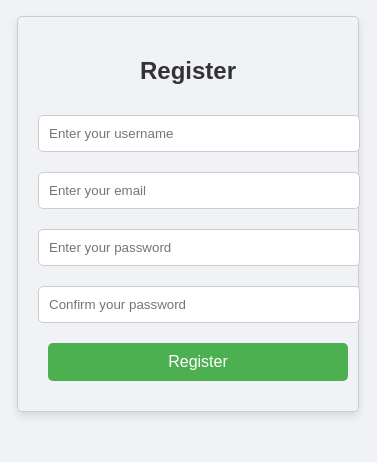
shows error message when passwords do not match
Type "testuser" into the field with placeholder "Enter your username" at (199, 133), box 38,115 -> 360,152
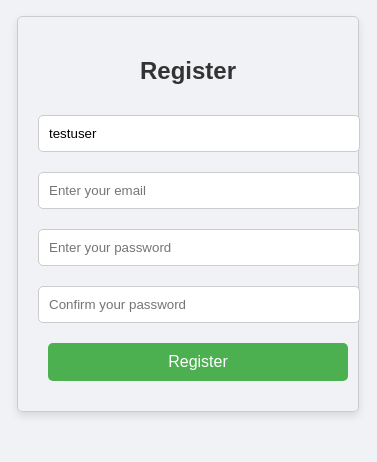
Type "test@example.com" into the field with placeholder "Enter your email" at (199, 190), box 38,172 -> 360,209
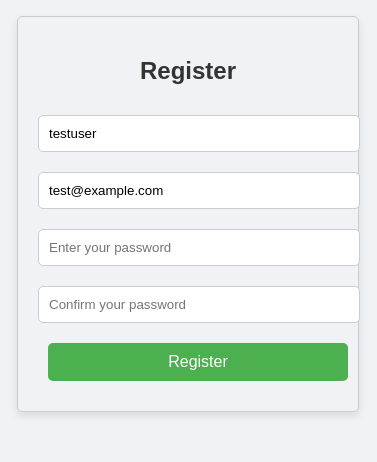
Type "password123" into the password field with placeholder "Enter your password" at (199, 247), box 38,229 -> 360,266
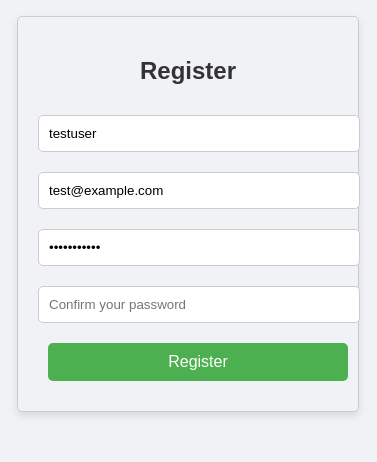
Type "password321" into the password field with placeholder "Confirm your password" at (199, 304), box 38,286 -> 360,323
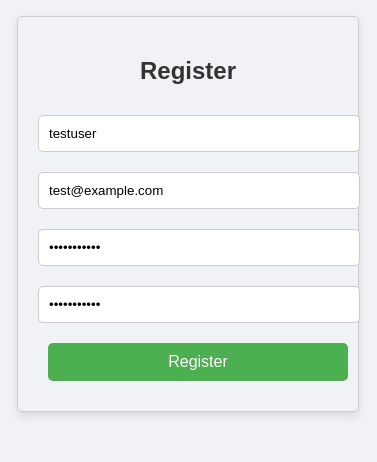
Click the button "Register" at (198, 362), box 48,343 -> 348,381
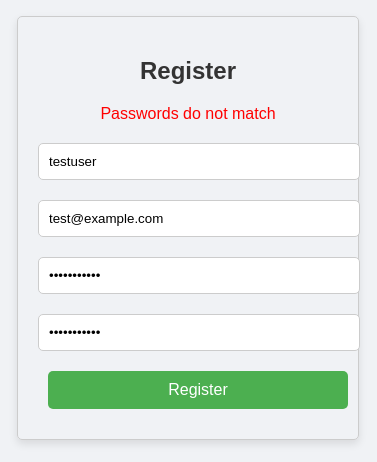
Check: the text "Passwords do not match" is shown, box 100,105 -> 276,122
